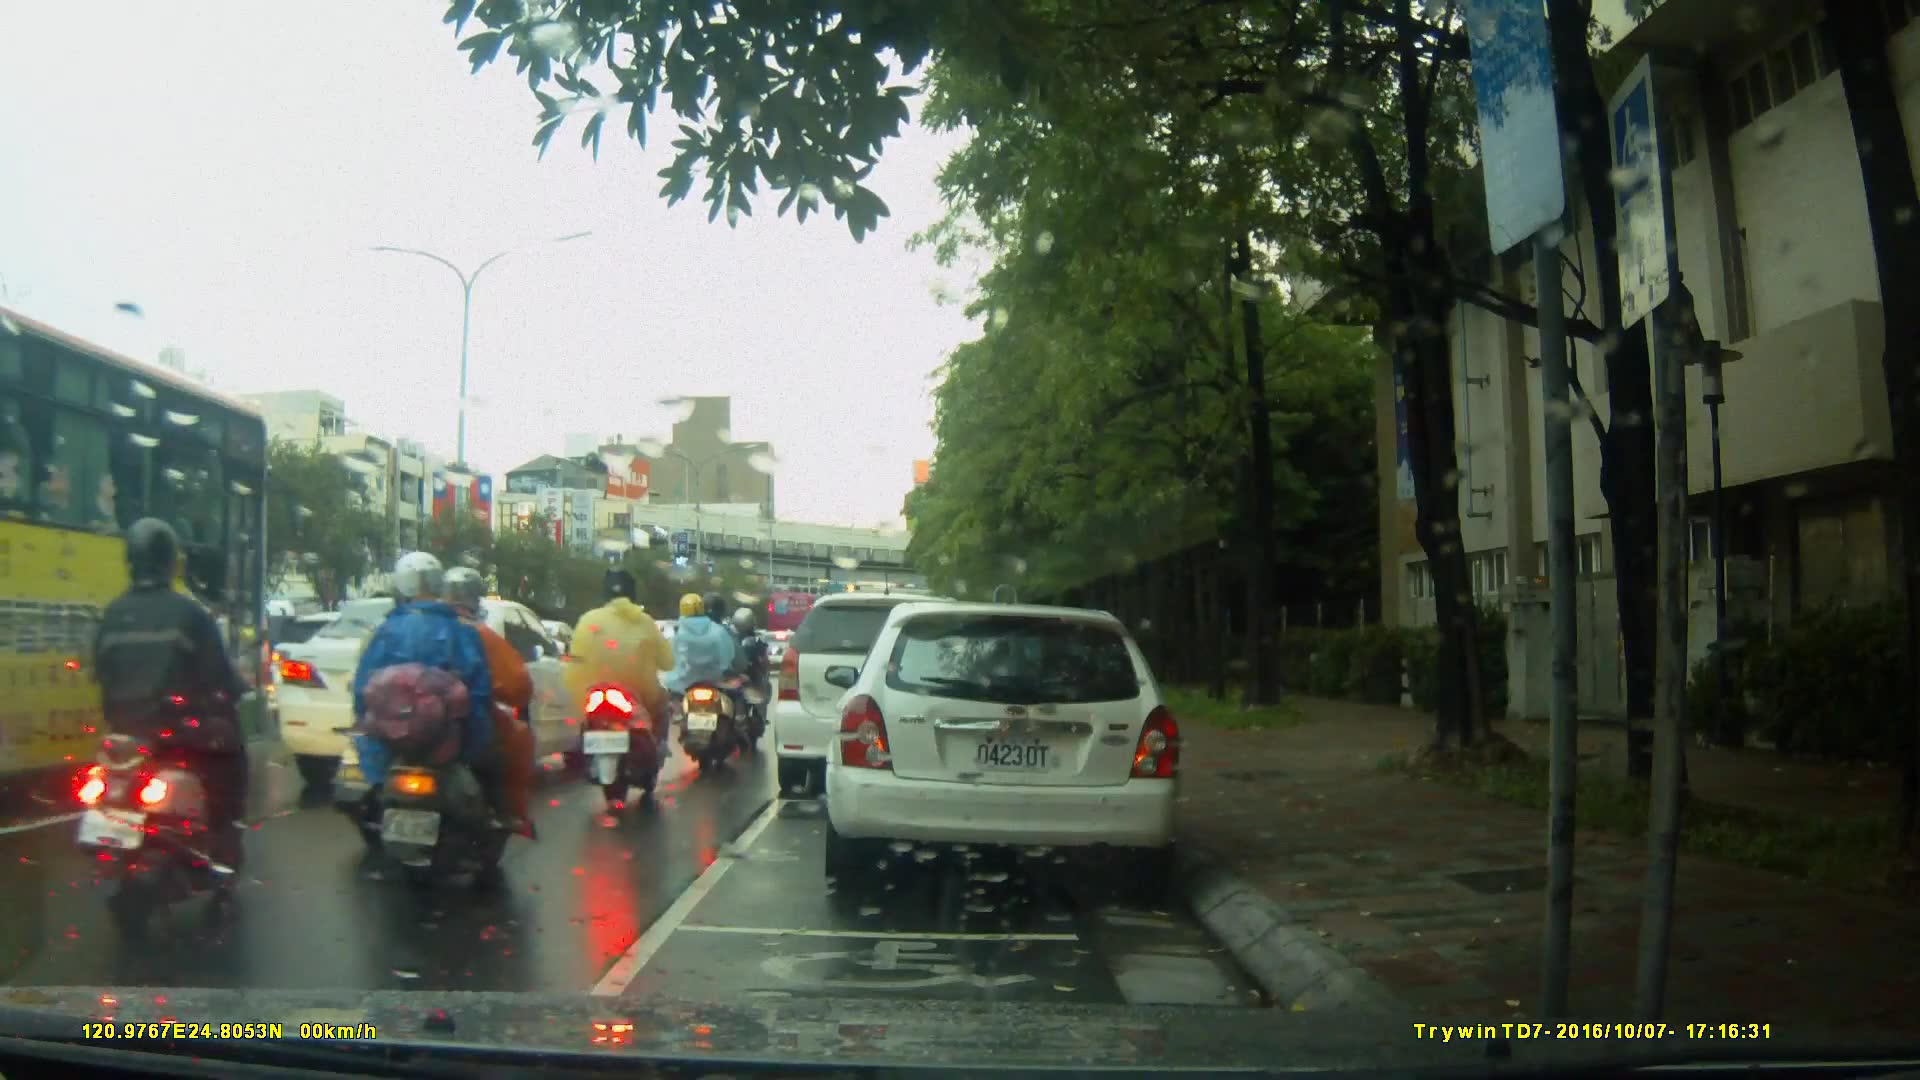rider: (65, 516, 255, 919), (348, 558, 549, 880), (544, 559, 670, 808), (675, 585, 740, 755), (715, 611, 775, 750)
vehicle: (1, 301, 282, 828), (835, 594, 1194, 898), (275, 594, 605, 804), (776, 590, 1026, 784)
